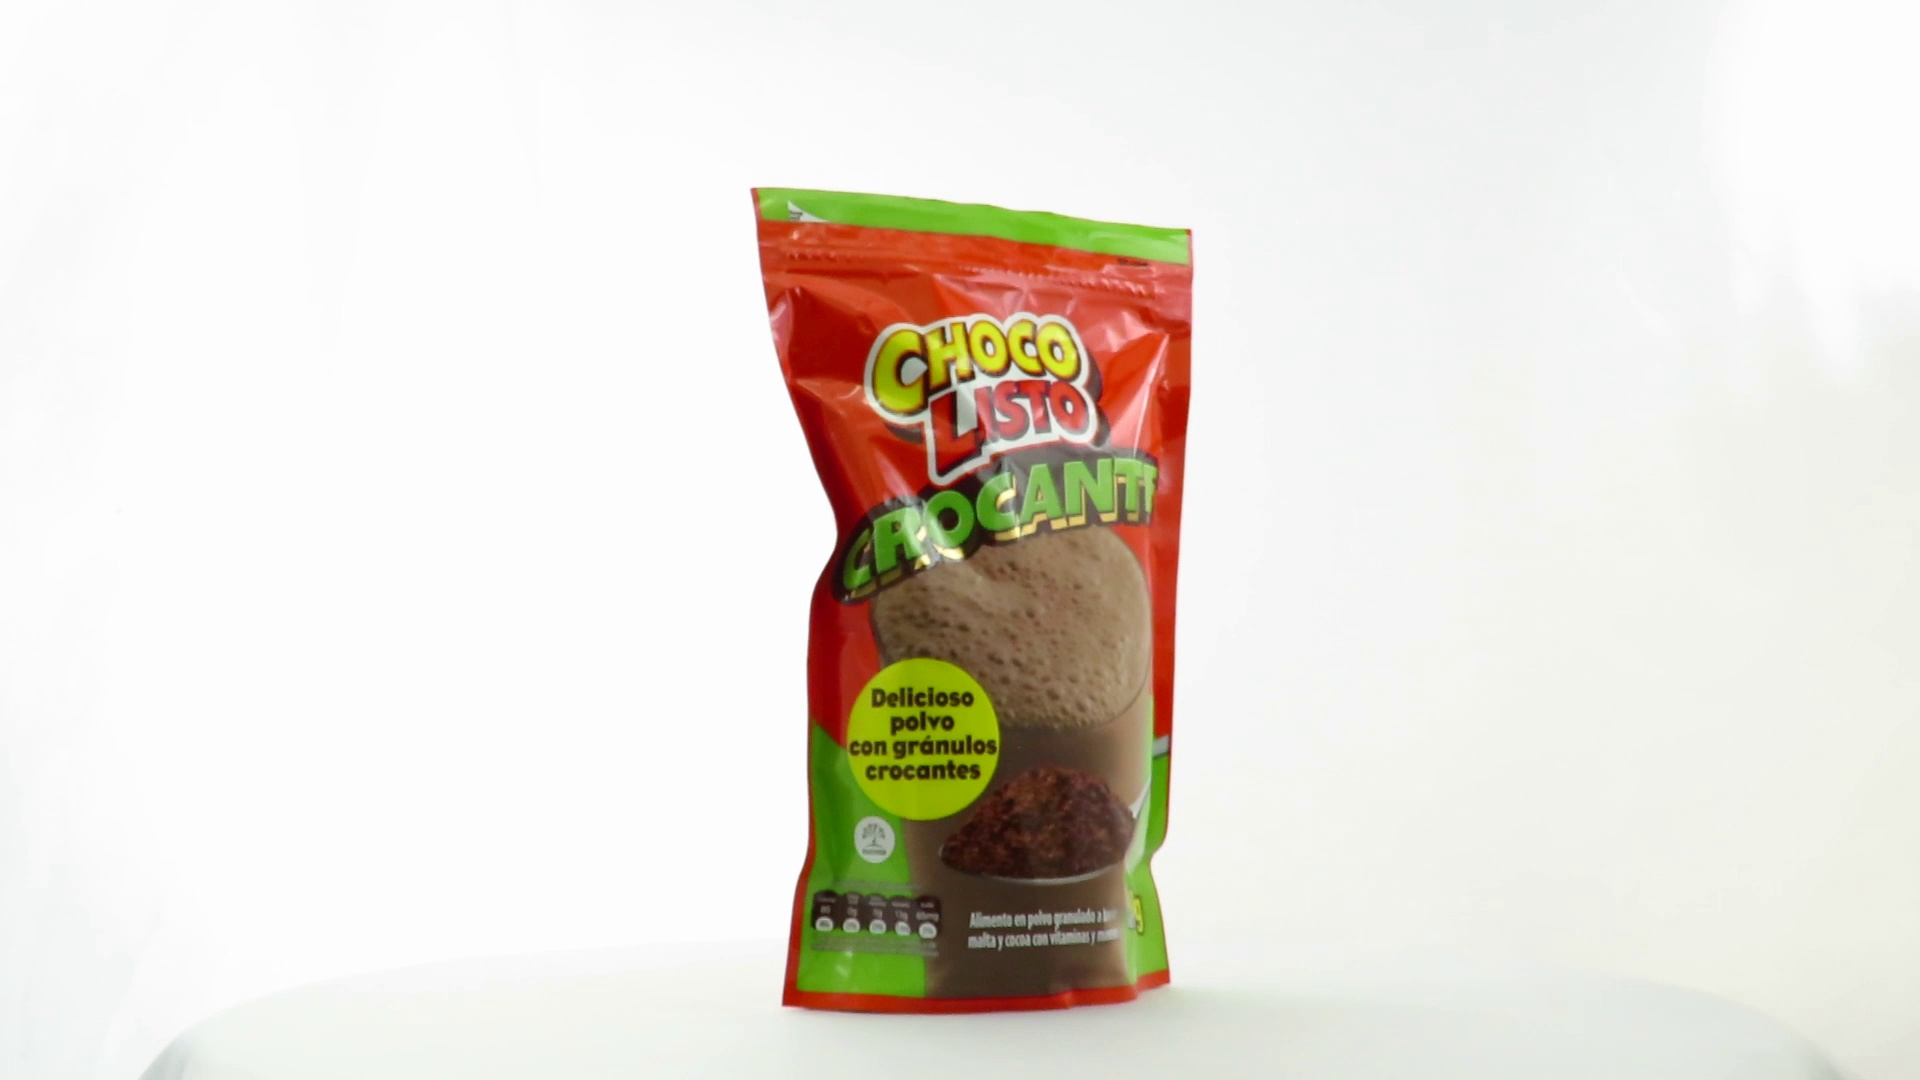COL0170102DYP50000: (745, 182, 1200, 1021)
